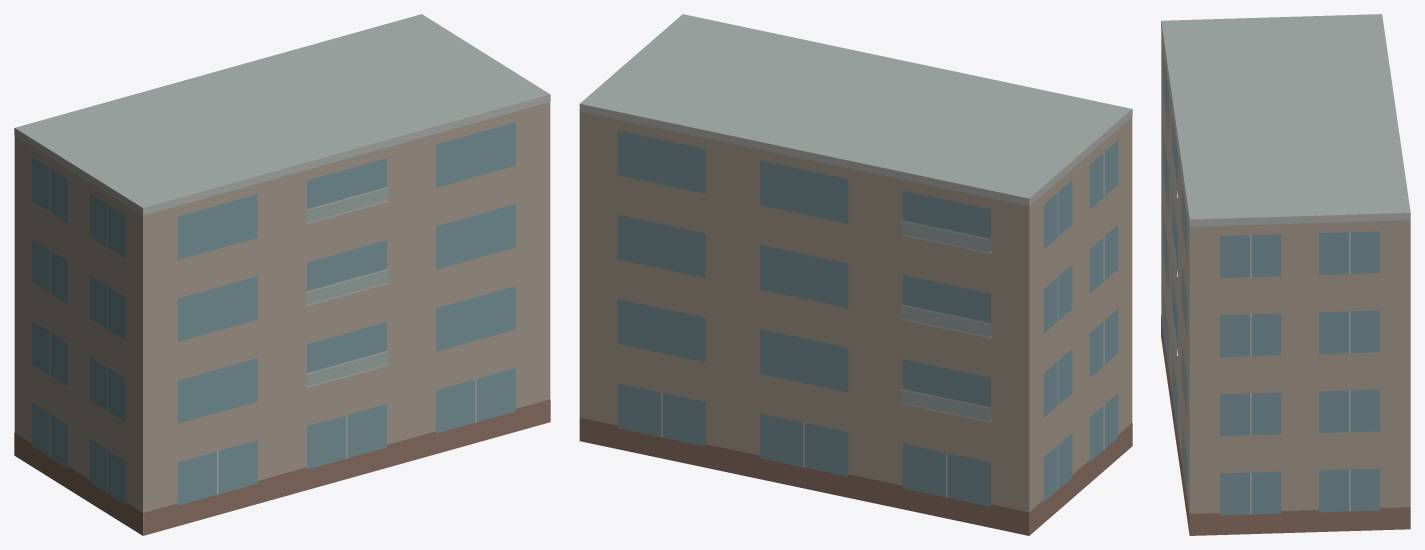
The model's file is survey-upis-32966901.glb.
3 views of the same model, side by side, from view 1: azimuth 30°, elevation 25°; view 2: azimuth 150°, elevation 25°; view 3: azimuth 270°, elevation 25° (orthographic). The views are drawn at different scales.
Parts seen in each view (by area): view 1: survey-upis-32966901.tmp; view 2: survey-upis-32966901.tmp; view 3: survey-upis-32966901.tmp.
Boxes of the visible parts, bbox=[...] form: survey-upis-32966901.tmp: bbox=[14, 14, 550, 535]; survey-upis-32966901.tmp: bbox=[579, 14, 1132, 535]; survey-upis-32966901.tmp: bbox=[1161, 14, 1410, 535].
Size of the model in its own units: 14.78 by 10.6 by 7.59.
